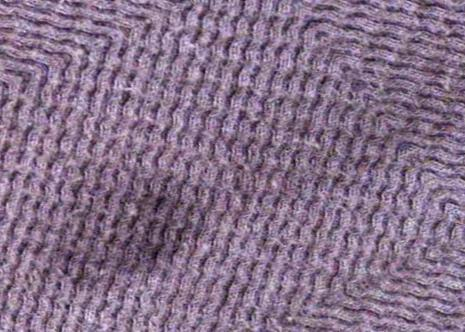stain: (60, 176, 201, 288)
